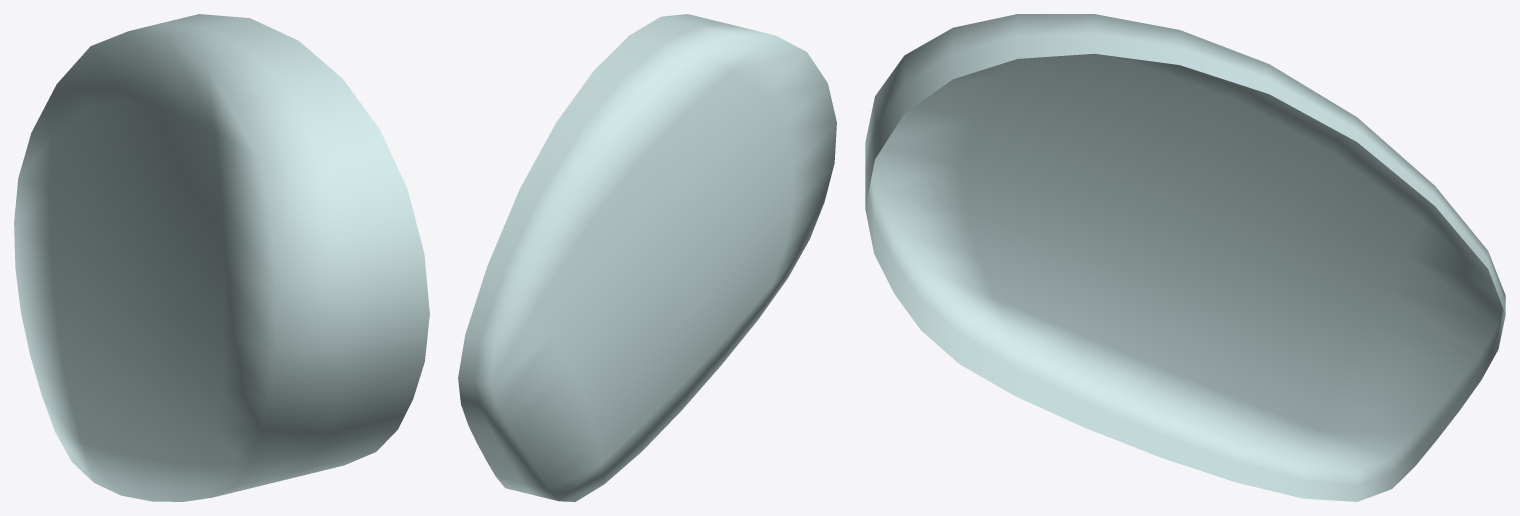
Rendered from Interpubic_disc.r_Cube.047.glb.
3 views of the same model, side by side, from view 1: azimuth 30°, elevation 25°; view 2: azimuth 150°, elevation 25°; view 3: azimuth 270°, elevation 25° (orthographic). The views are drawn at different scales.
Visible parts, largest first — view 1: Interpubic_disc.r_Cube.047; view 2: Interpubic_disc.r_Cube.047; view 3: Interpubic_disc.r_Cube.047.
Boxes of the visible parts, x1,y1,x2,y2 form: Interpubic_disc.r_Cube.047: [14, 14, 429, 501]; Interpubic_disc.r_Cube.047: [458, 14, 836, 501]; Interpubic_disc.r_Cube.047: [865, 14, 1505, 501].
Bounding box in the file's own units: 0.00462 × 0.0144 × 0.0187.
